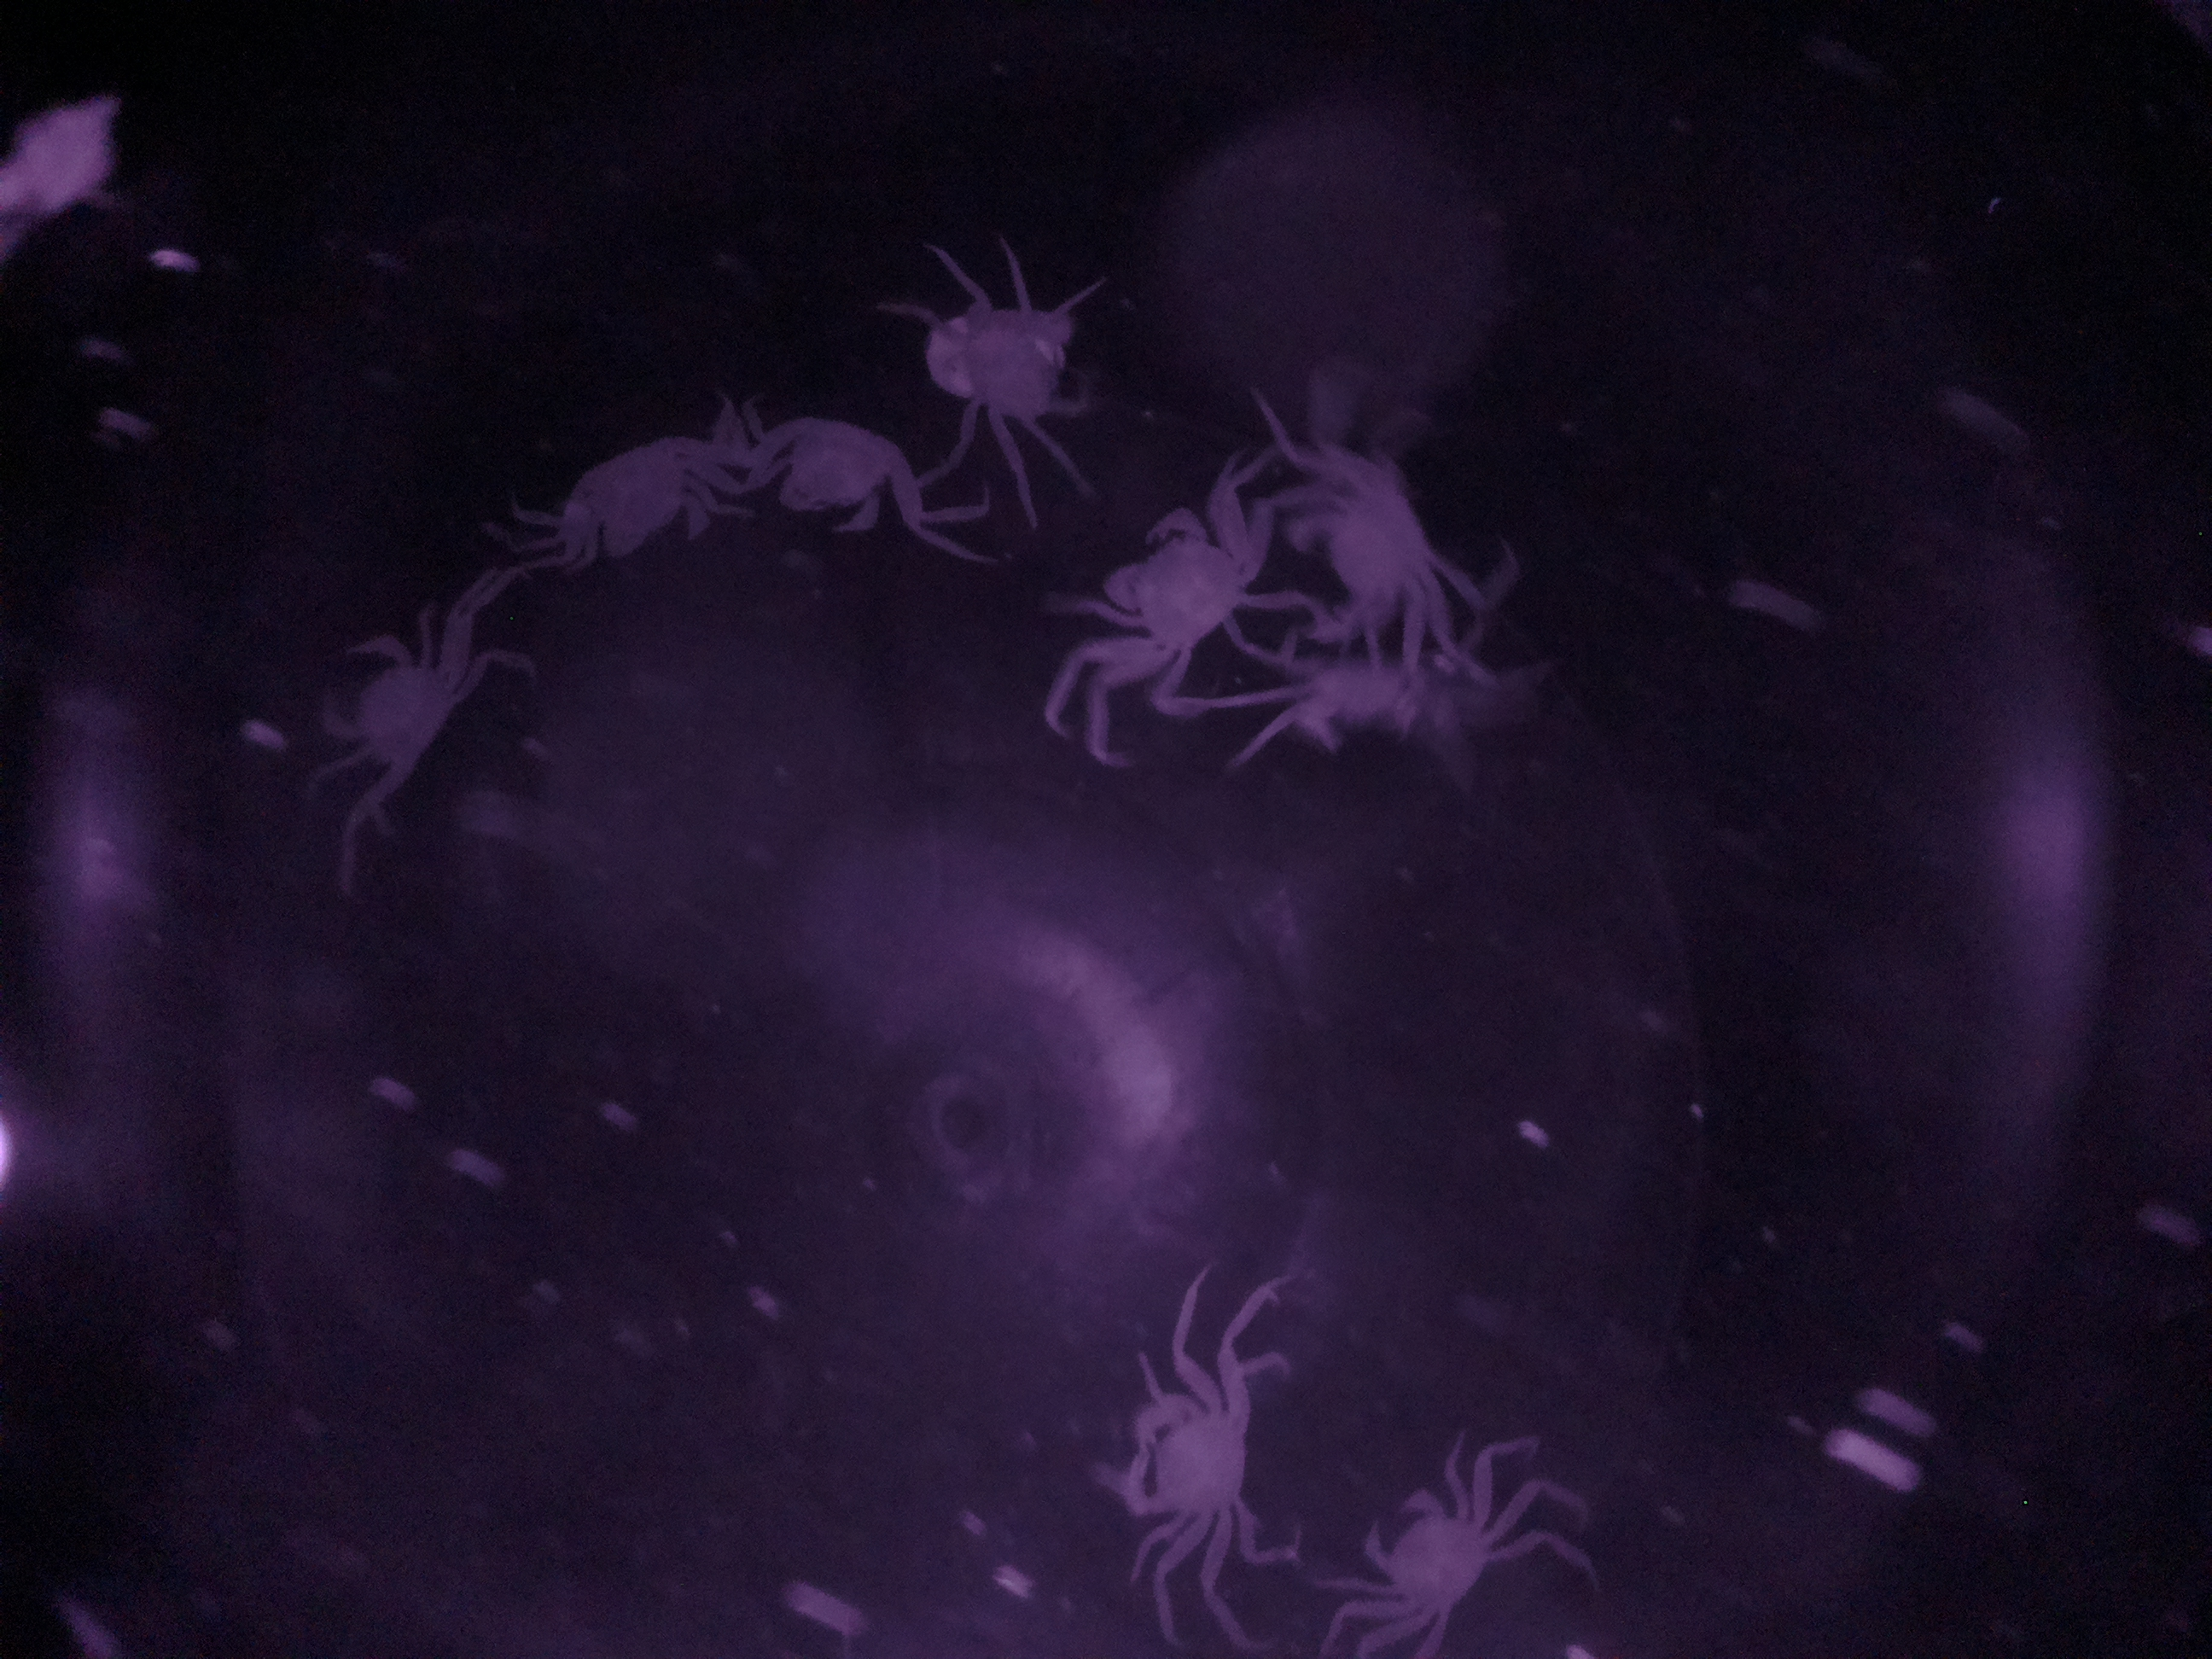Crab: (1101, 1317, 1254, 1582), (1087, 495, 1278, 704), (308, 603, 495, 798), (733, 383, 939, 556), (1341, 1438, 1501, 1642)
